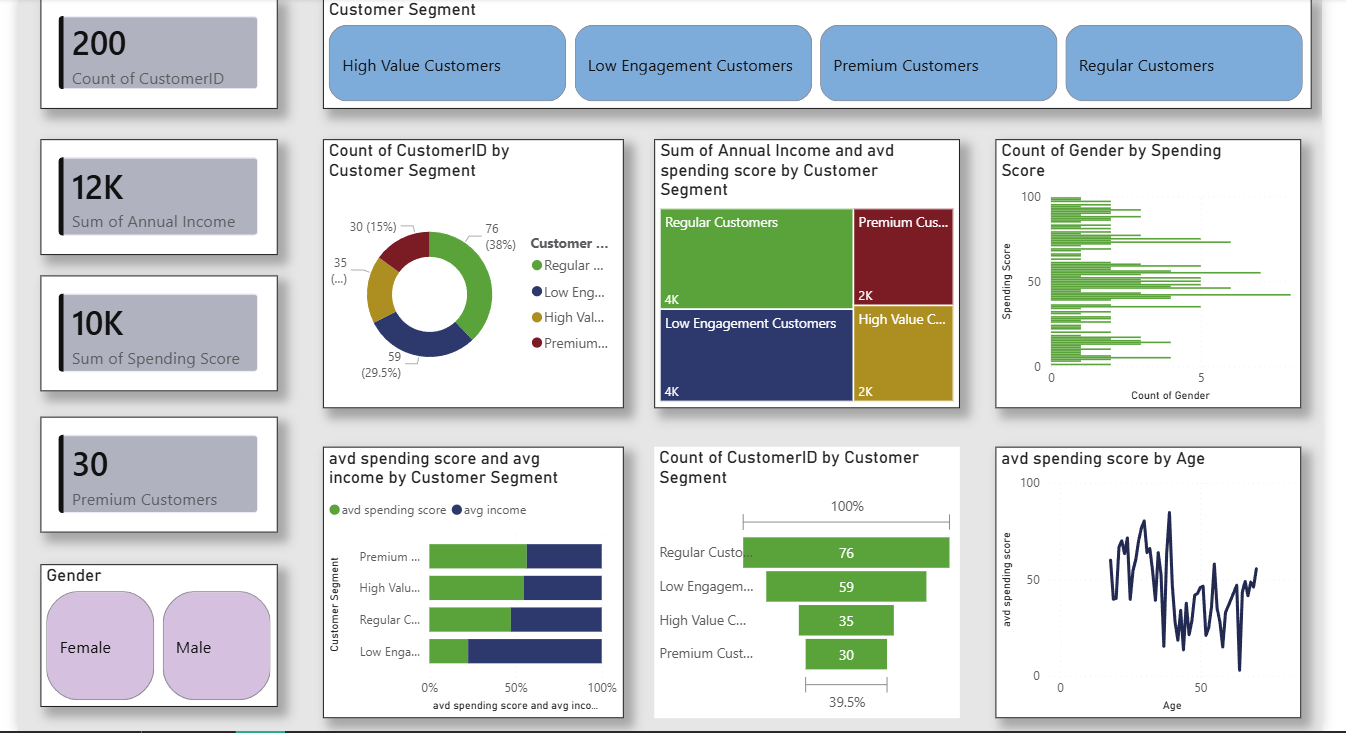

What the dashboard file says about the page in this screenshot:
{"tool":"powerbi","page":{"name":"Page 1","canvas":[1280,720],"ordinal":0},"visuals":[{"type":"donutChart","fields":{"Category":["Mall_Customers.Customer Segment"],"Y":["CountNonNull(Mall_Customers.CustomerID)"]},"box":[300,138.8,295,263.8],"z":0},{"type":"treemap","fields":{"Group":["Mall_Customers.Customer Segment"],"Values":["Sum(Mall_Customers.Annual Income)"]},"box":[625,138.8,300,263.8],"z":1000},{"type":"clusteredBarChart","fields":{"Y":["CountNonNull(Mall_Customers.Gender)"],"Category":["Mall_Customers.Spending Score"]},"box":[960,138.8,300,263.8],"z":2000},{"type":"cardVisual","fields":{"Data":["CountNonNull(Mall_Customers.CustomerID)"]},"box":[22.5,0,232.5,108.8],"z":3000},{"type":"cardVisual","fields":{"Data":["Sum(Mall_Customers.Annual Income)"]},"box":[22.5,138.8,232.5,113.8],"z":4000},{"type":"cardVisual","fields":{"Data":["Sum(Mall_Customers.Spending Score)"]},"box":[22.5,272.5,232.5,113.8],"z":5000},{"type":"cardVisual","fields":{"Data":["Mall_Customers.Premium Customers"]},"box":[22.5,411.2,232.5,113.8],"z":6000},{"type":"advancedSlicerVisual","fields":{"Values":["Mall_Customers.Gender"]},"box":[22.5,556.2,232.5,140],"z":7000},{"type":"hundredPercentStackedBarChart","fields":{"Category":["Mall_Customers.Customer Segment"],"Y":["Mall_Customers.avd spending score","Mall_Customers.avg income"]},"box":[300,440,295,266.2],"z":8000},{"type":"funnel","fields":{"Category":["Mall_Customers.Customer Segment"],"Y":["CountNonNull(Mall_Customers.CustomerID)"]},"box":[625,440,300,266.2],"z":9000},{"type":"lineChart","fields":{"Category":["Mall_Customers.Age"],"Y":["Mall_Customers.avd spending score"]},"box":[960,440,300,266.2],"z":10000},{"type":"advancedSlicerVisual","fields":{"Values":["Mall_Customers.Customer Segment"]},"box":[300,0,970,108.8],"z":11000}]}

Visuals, with their boxes in screenshot pixels (x1, y1, x2, y2):
donutChart - Mall_Customers.Customer Segment x CountNonNull(Mall_Customers.CustomerID): (319,134,626,408)
treemap - Mall_Customers.Customer Segment x Sum(Mall_Customers.Annual Income): (657,134,969,408)
clusteredBarChart - CountNonNull(Mall_Customers.Gender) x Mall_Customers.Spending Score: (1006,134,1318,408)
cardVisual - CountNonNull(Mall_Customers.CustomerID): (30,0,272,103)
cardVisual - Sum(Mall_Customers.Annual Income): (30,134,272,252)
cardVisual - Sum(Mall_Customers.Spending Score): (30,273,272,391)
cardVisual - Mall_Customers.Premium Customers: (30,417,272,536)
advancedSlicerVisual - Mall_Customers.Gender: (30,568,272,714)
hundredPercentStackedBarChart - Mall_Customers.Customer Segment x Mall_Customers.avd spending score: (319,447,626,724)
funnel - Mall_Customers.Customer Segment x CountNonNull(Mall_Customers.CustomerID): (657,447,969,724)
lineChart - Mall_Customers.Age x Mall_Customers.avd spending score: (1006,447,1318,724)
advancedSlicerVisual - Mall_Customers.Customer Segment: (319,0,1328,103)
